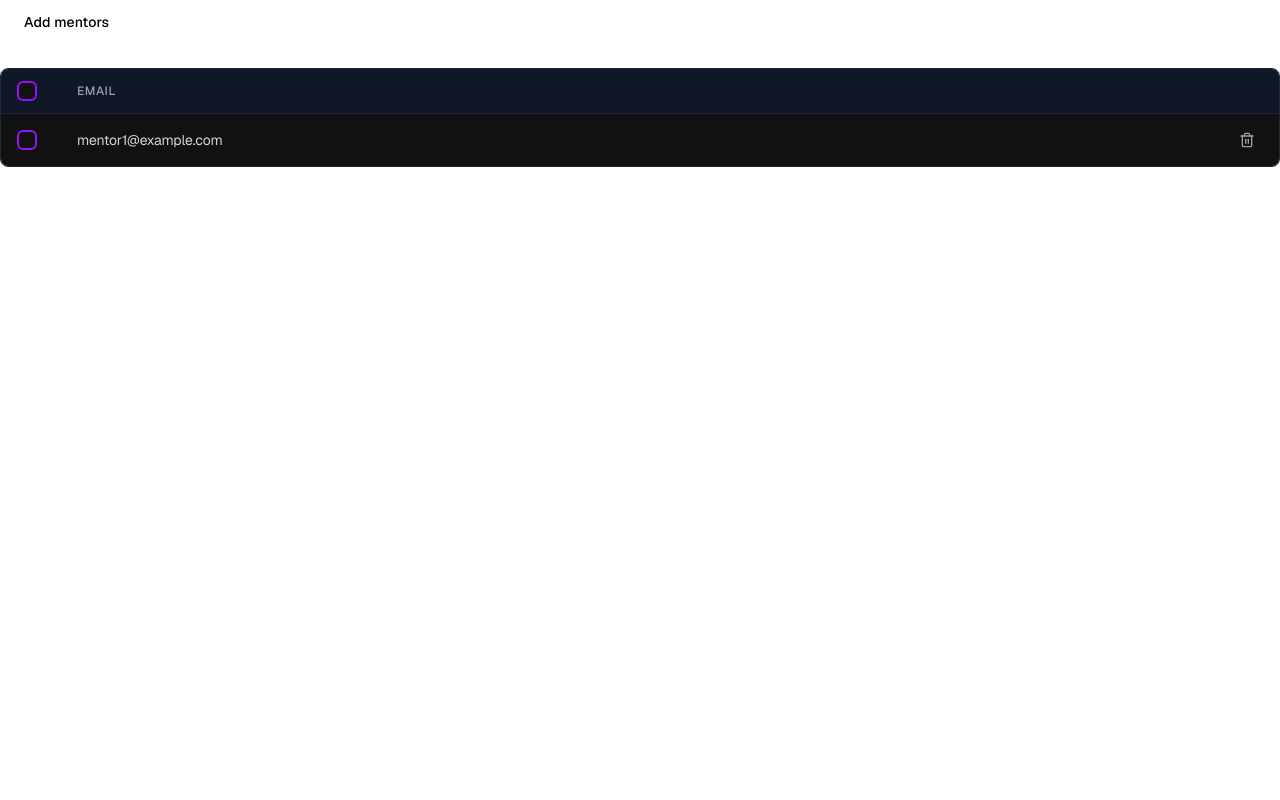
Scenario: CohortMemberManagement Component › Invite Dialog Management › opens invite dialog when "Add mentors" button is clicked
The image size is (1280, 800).
Click the button "Add mentors" at (67, 22), box [0,0,133,44]
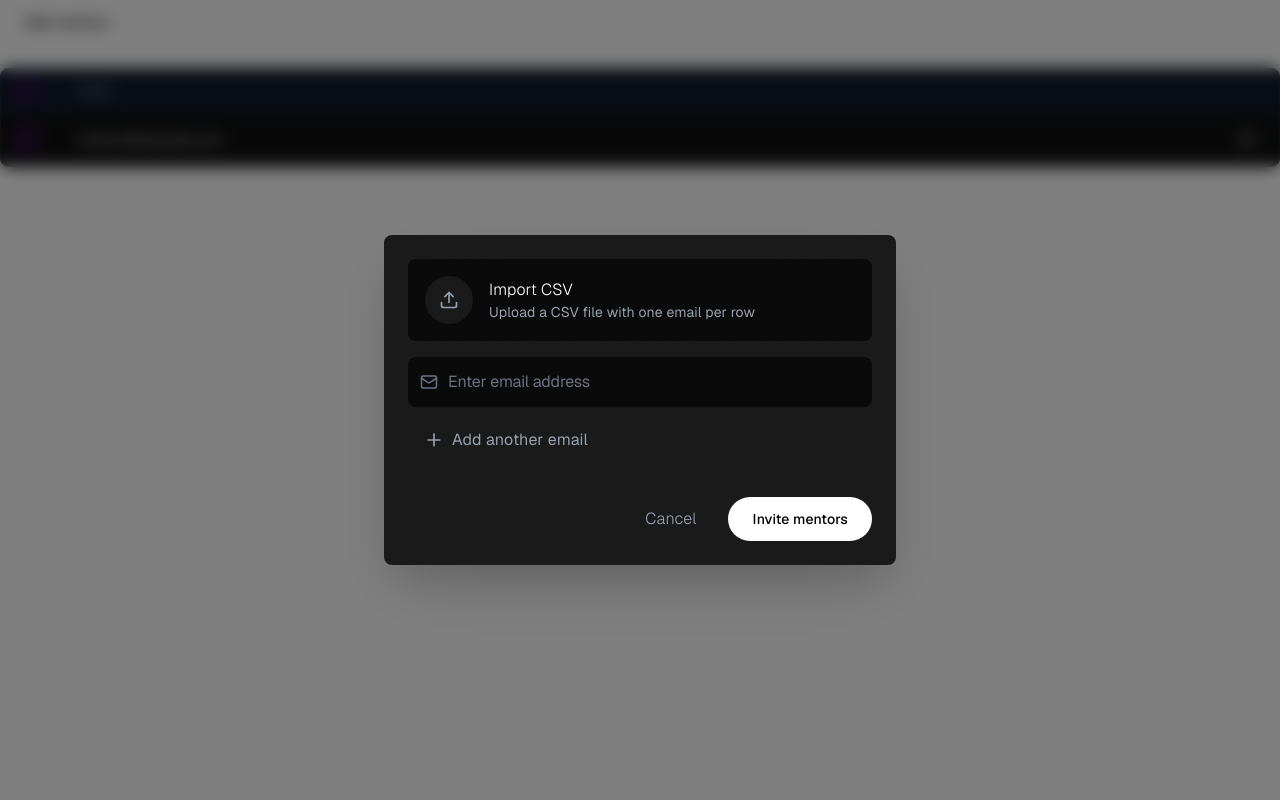
expect the field with placeholder "Enter email address" is shown: met, box [408,357,872,407]
